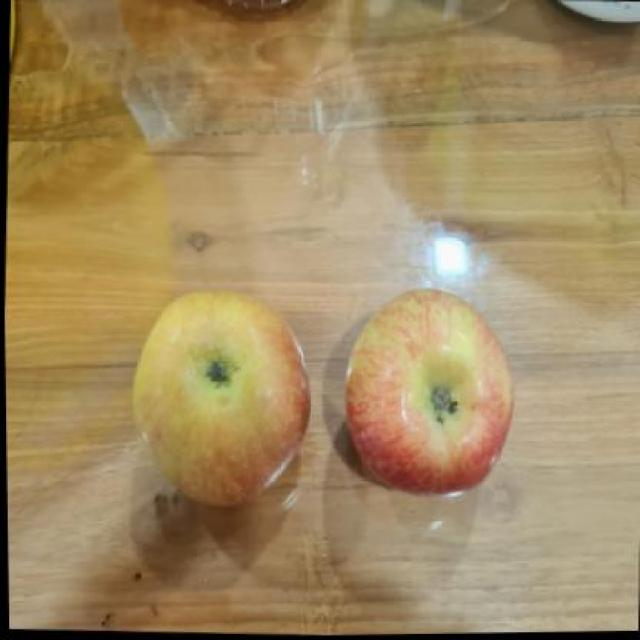Fresh Apple: (135, 277, 306, 511), (338, 285, 516, 489)
